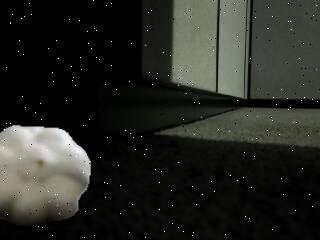Capsicum: (0, 126, 91, 230)
